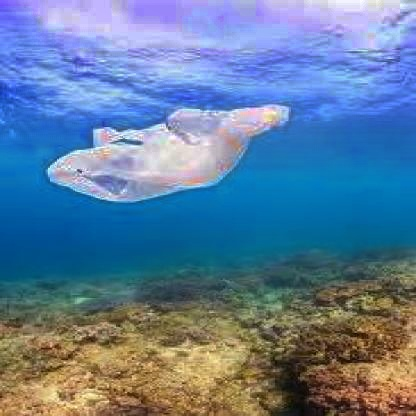pbag: (43, 103, 293, 203)
